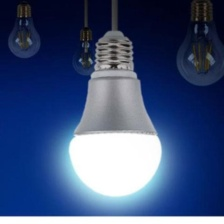light_bulb: (63, 26, 168, 199), (171, 0, 224, 88), (3, 2, 46, 60), (69, 23, 107, 78)
